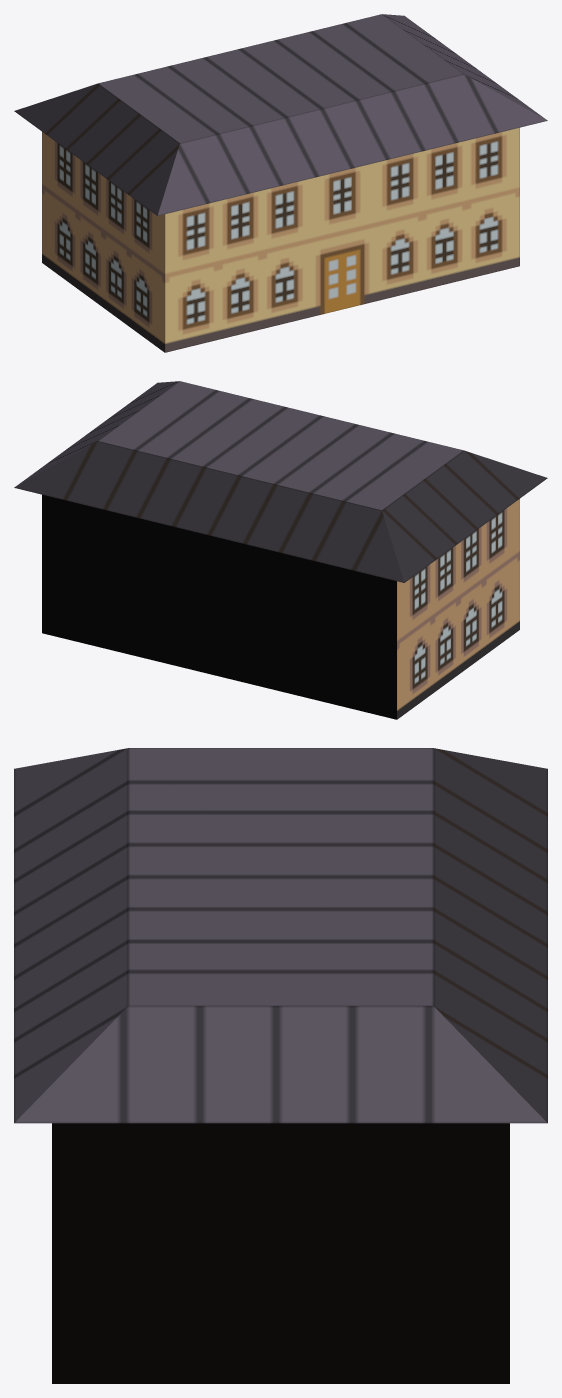
The model's file is town_hall_lvl2.fbx.
3 views of the same model, one above another, from view 1: azimuth 30°, elevation 25°; view 2: azimuth 150°, elevation 25°; view 3: azimuth 270°, elevation 25° (orthographic). The views are drawn at different scales.
Visible parts, largest first — view 1: Box001; view 2: Box001; view 3: Box001.
Boxes of the visible parts, box(x1,y1,x2,y2) form: Box001: box(14, 14, 547, 352); Box001: box(14, 381, 547, 719); Box001: box(14, 748, 547, 1383).
Bounding box in the file's own units: 176 × 80 × 112.
Materials: 1 (1 with a texture image).
